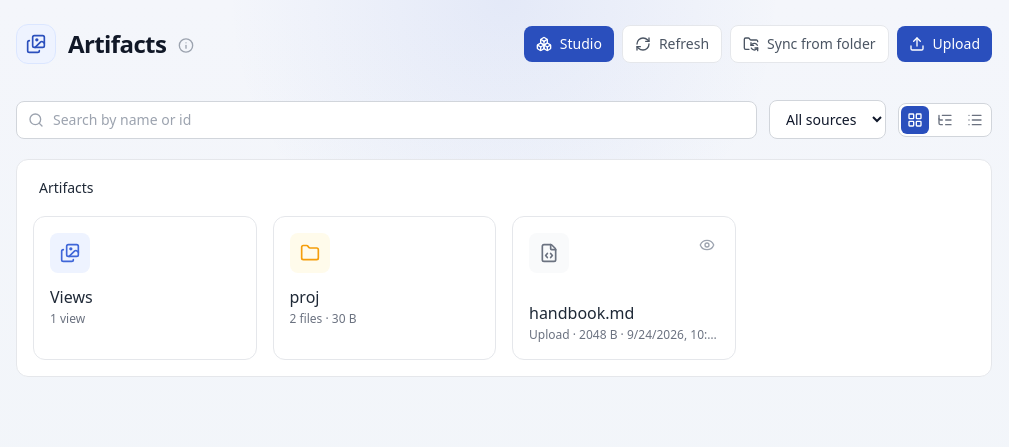
Test: Artifacts page › shows folder-backed files as a tree with folders collapsed until opened
Check: the text "handbook.md" is shown, box [529, 302, 634, 324]
Click the button named "Tree".
click(945, 120)  # box [931, 106, 959, 134]
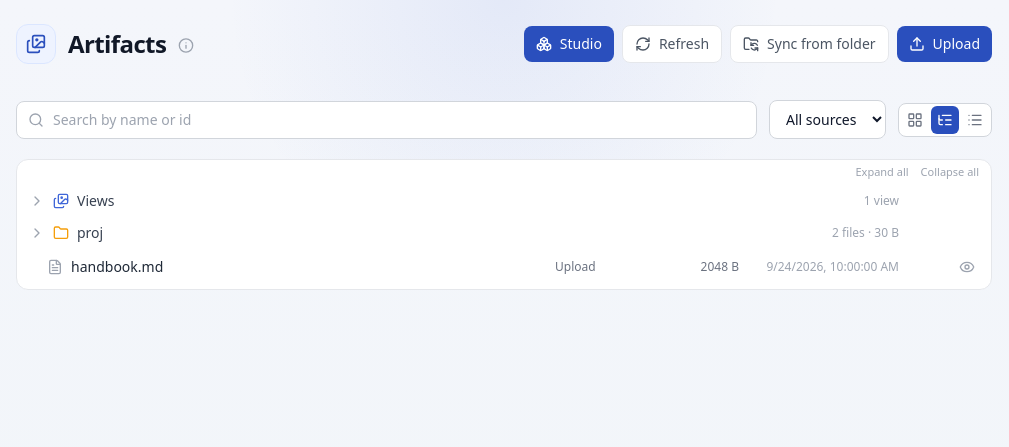
Check: the text "2 files · 30 B" is shown, box [832, 224, 899, 240]
Check: the element with test id "files-tree" is shown, box [17, 160, 991, 288]
Click the text "proj".
click(90, 232)  # box [77, 222, 103, 242]
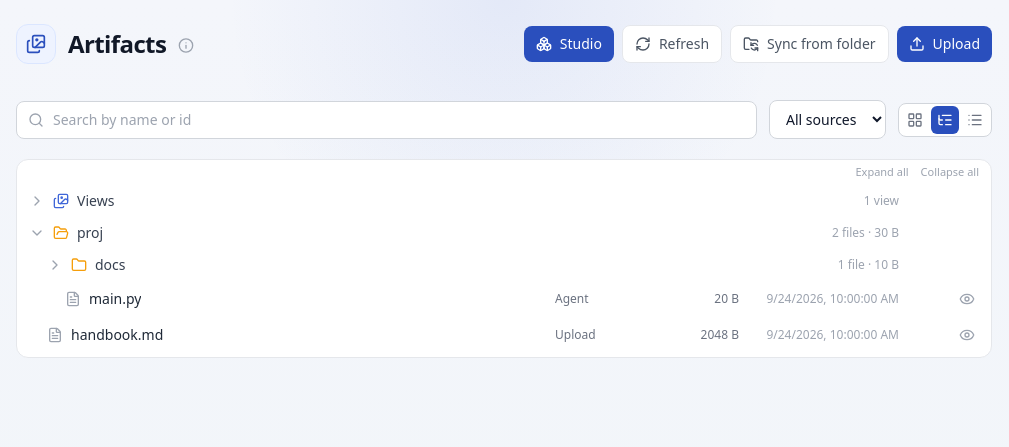
Check: the text "plan.md" is not shown
Check: the text "main.py" is shown, box [89, 288, 141, 308]
Check: the text "docs" is shown
Click the text "docs".
click(110, 264)  # box [95, 254, 126, 274]
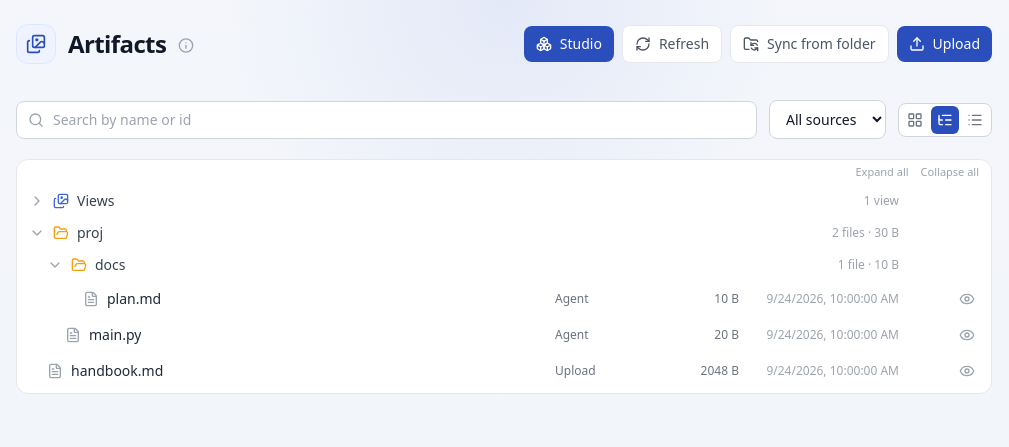
Check: the text "plan.md" is shown, box [107, 288, 161, 308]
Click the button "Collapse all".
click(950, 172)  # box [921, 164, 979, 180]
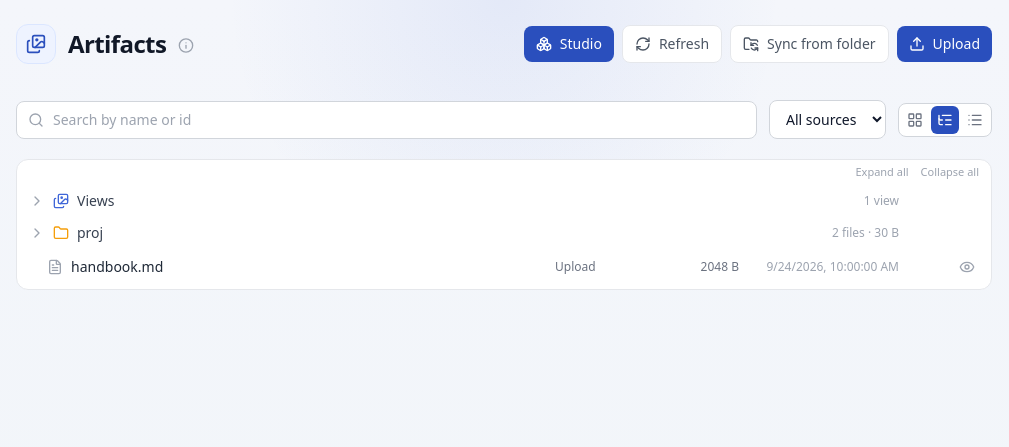
Check: the text "main.py" is gone
Click the button "Expand all".
click(882, 172)  # box [856, 164, 909, 180]
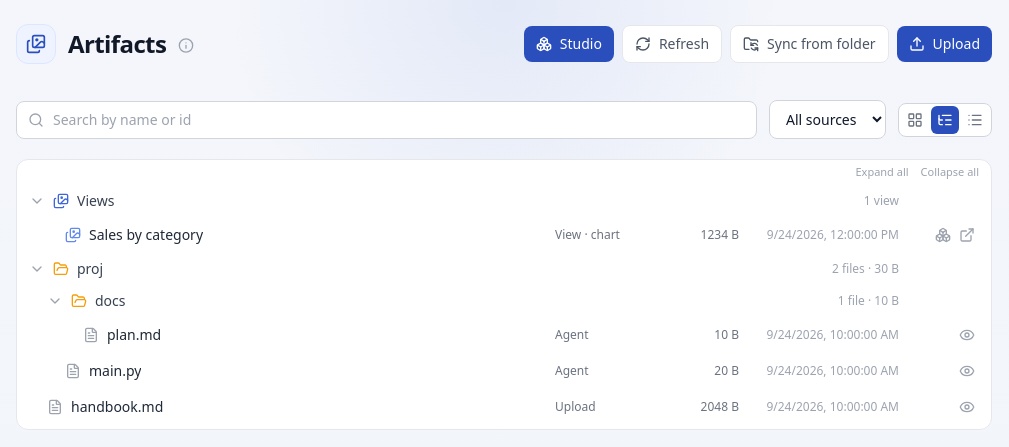
Check: the text "plan.md" is shown, box [107, 324, 161, 344]
